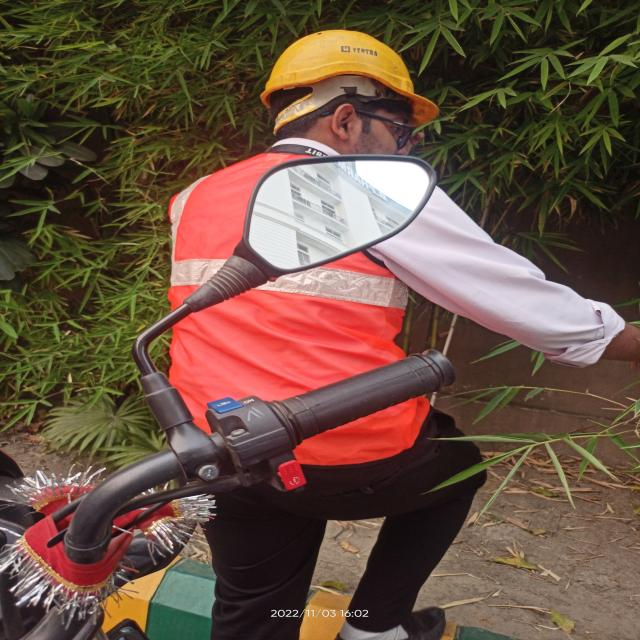safe: (172, 27, 498, 640)
